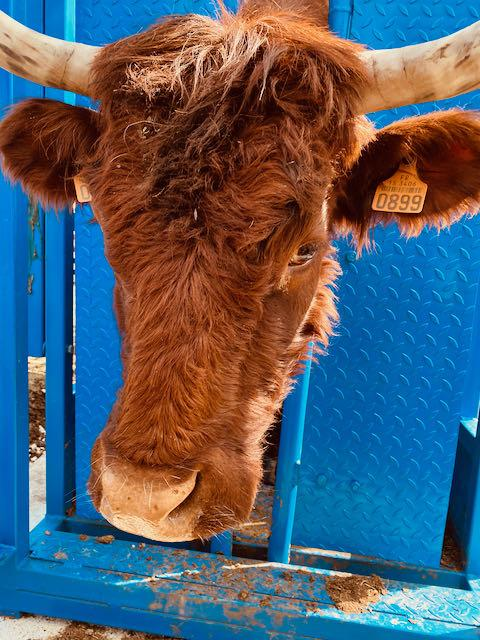muzzles: (74, 426, 240, 548)
